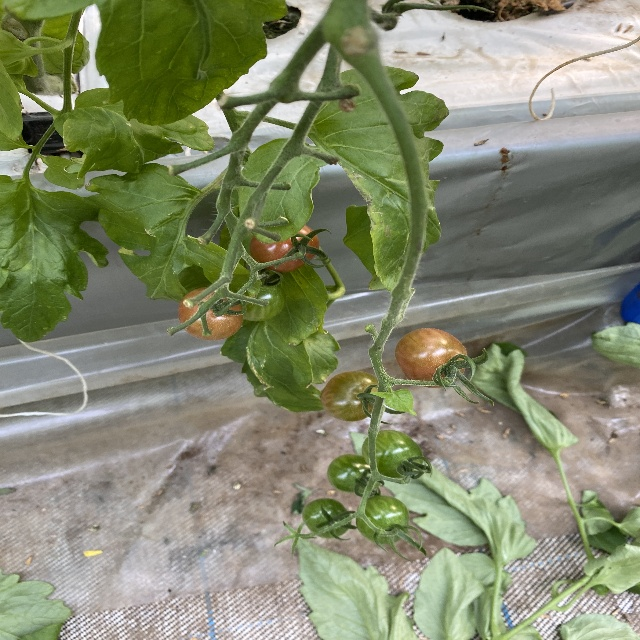l_green: (362, 429, 424, 480), (355, 494, 410, 543), (302, 497, 353, 539), (328, 454, 380, 493), (243, 279, 286, 320)
l_half_ripened: (394, 326, 469, 389), (248, 223, 320, 273), (176, 288, 244, 340), (321, 371, 380, 422)
